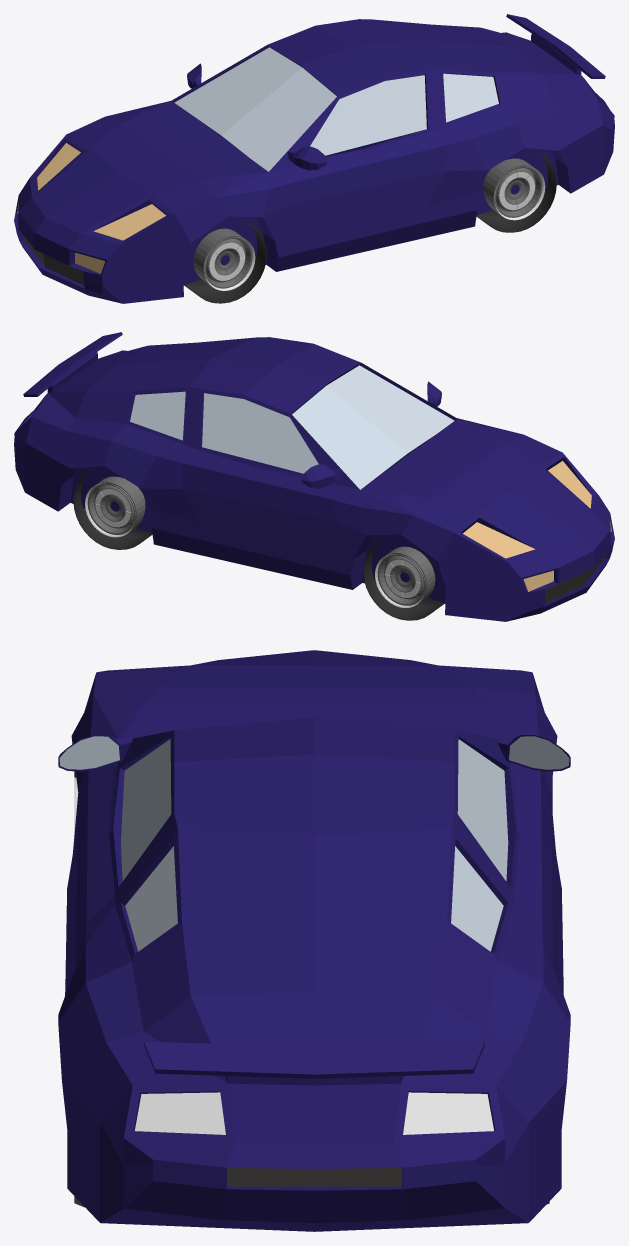
The model's file is car1.fbx.
The picture shows the model from 3 angles, top to bottom: view 1: azimuth 30°, elevation 25°; view 2: azimuth 150°, elevation 25°; view 3: azimuth 270°, elevation 25°; orthographic projection. The views are drawn at different scales.
Visible parts, largest first — view 1: Cube, Шина.001, Шина; view 2: Cube, Шина.002, Шина.003; view 3: Cube.
Part boxes in pixels (bbox=[...]): Cube: bbox=[14, 14, 614, 303]; Шина.001: bbox=[184, 221, 266, 303]; Шина: bbox=[476, 150, 556, 232]; Cube: bbox=[14, 332, 614, 621]; Шина.002: bbox=[363, 539, 444, 620]; Шина.003: bbox=[73, 468, 152, 549]; Cube: bbox=[58, 650, 570, 1231].
Bounding box in the file's own units: 797 × 234 × 322.
